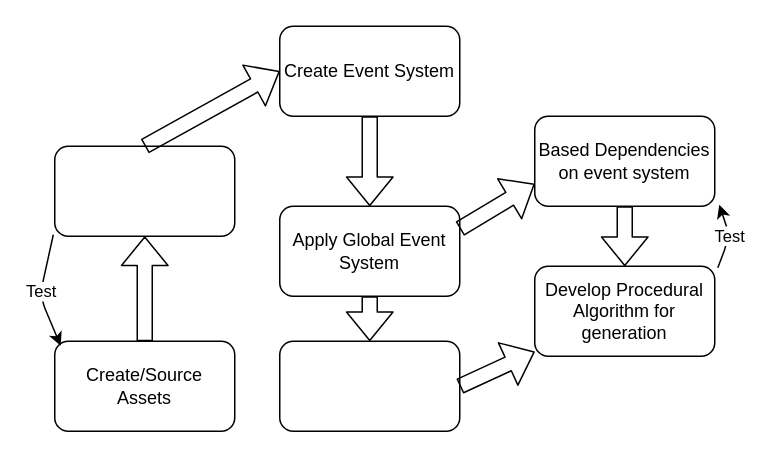
Some shapes in this 771 by 458 pixel diagram are drawn without their labels. Each missing label, with the centre of its shape:
"Apply assets into scene one" goes at [144,190].
"Create Prefabs for PCG" goes at [369,385].
